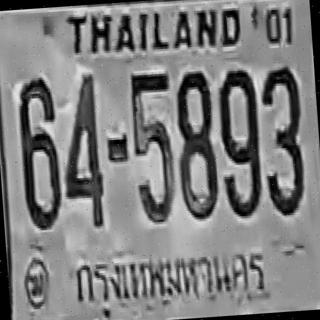N03: (258, 64, 306, 214)
N04: (57, 71, 106, 228)
N05: (128, 71, 177, 223)
N06: (15, 76, 62, 230)
N08: (173, 68, 219, 220)
N09: (215, 67, 263, 217)
P04: (70, 242, 271, 315)
